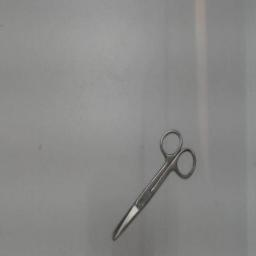Dressing Scissors: (108, 123, 204, 245)
